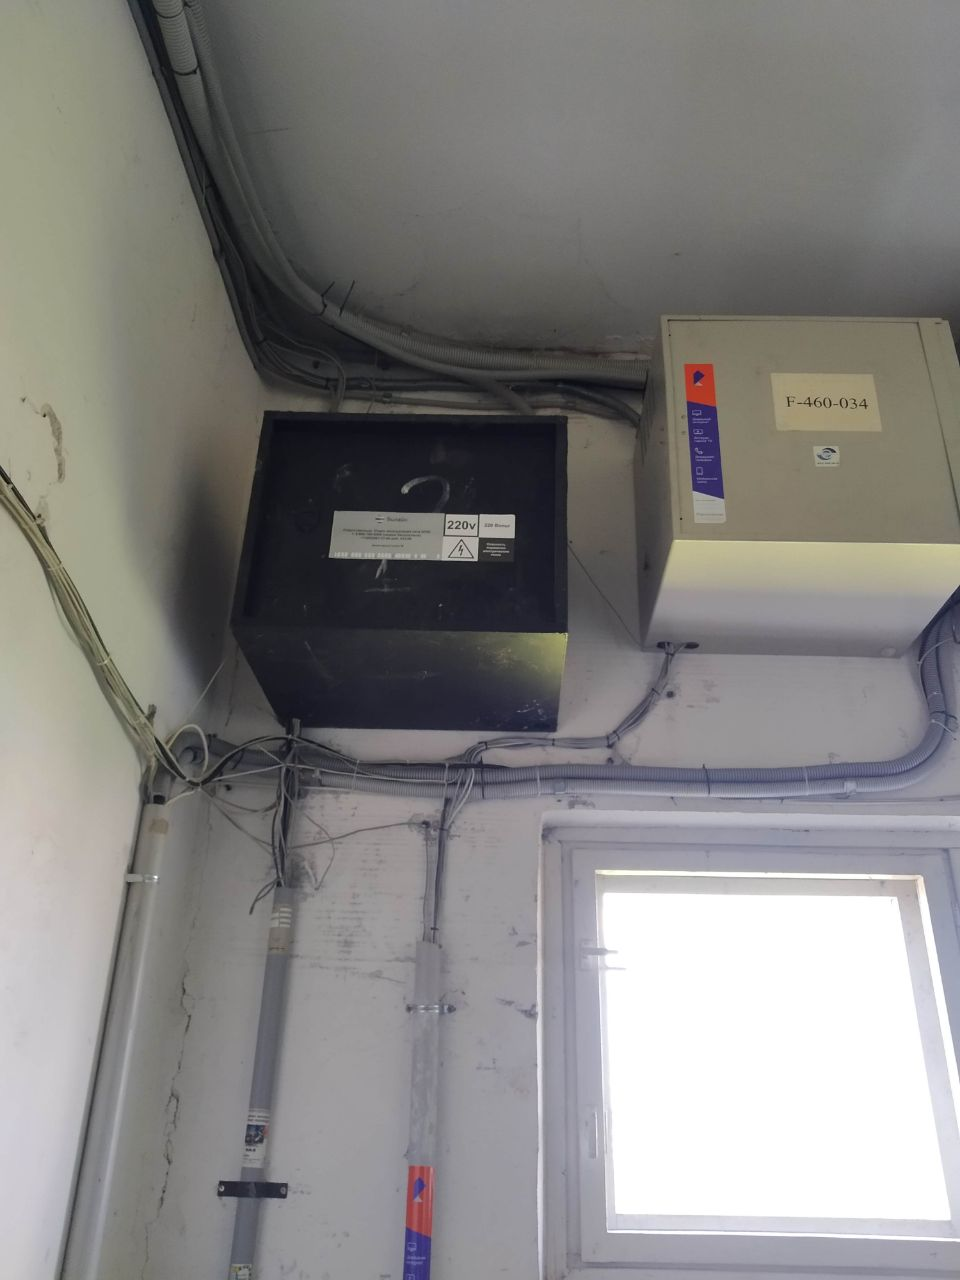shta-9m: (221, 396, 580, 733)
